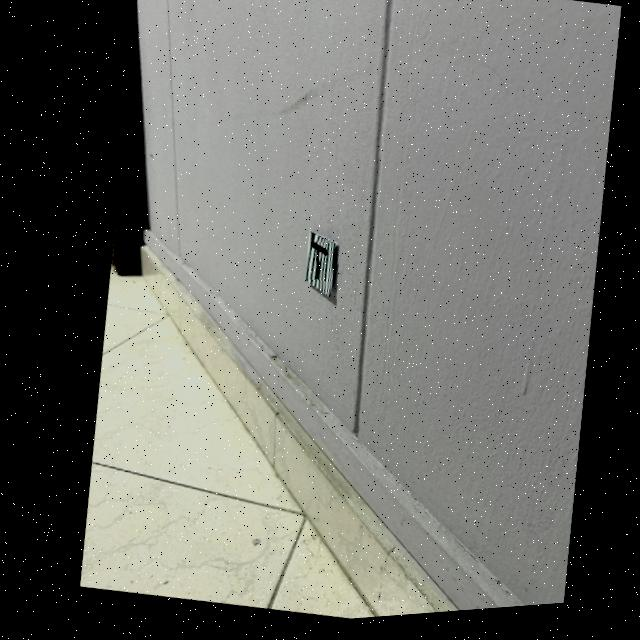T: (307, 247, 322, 285)
